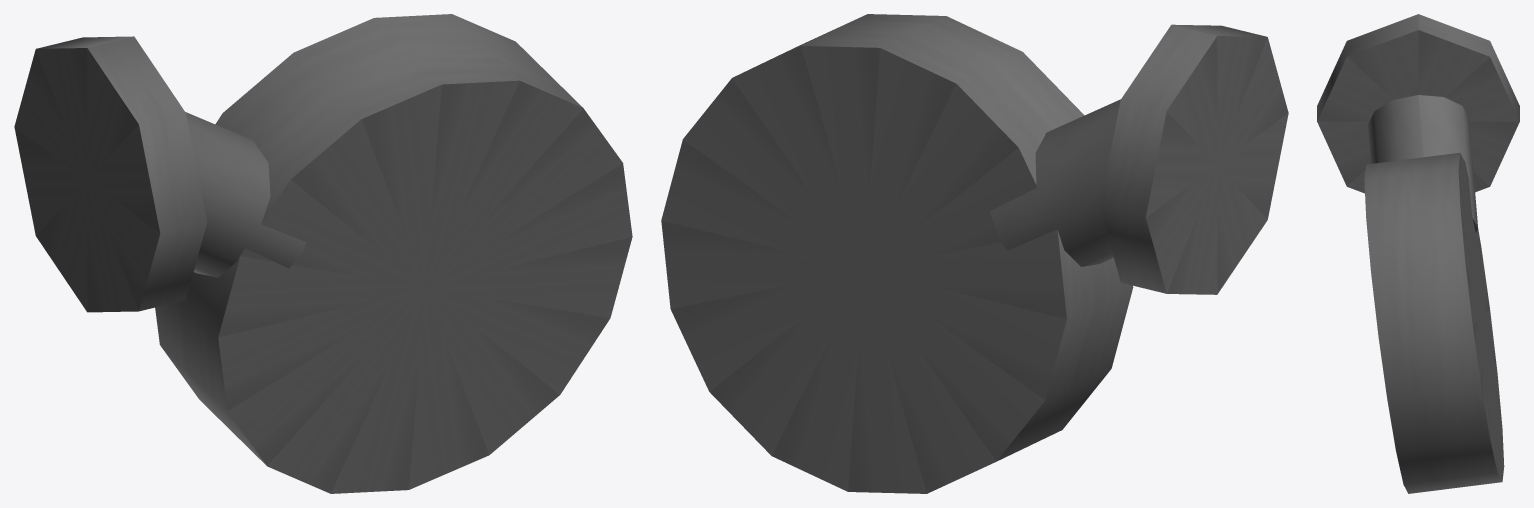
Rendered from mastarmcurve_10x2_c8_west.obj.
3 renders of one model, left to right at view 1: azimuth 30°, elevation 25°; view 2: azimuth 150°, elevation 25°; view 3: azimuth 270°, elevation 25°, orthographic. The views are drawn at different scales.
Visible parts, largest first — view 1: mastarm_10x2_c8_west; view 2: mastarm_10x2_c8_west; view 3: mastarm_10x2_c8_west.
Boxes of the visible parts, x1=… form: mastarm_10x2_c8_west: x1=14, y1=14, x2=632, y2=493; mastarm_10x2_c8_west: x1=661, y1=14, x2=1288, y2=493; mastarm_10x2_c8_west: x1=1317, y1=14, x2=1519, y2=493.
Bounding box in the file's own units: 0.8273 × 0.7783 × 0.4.
